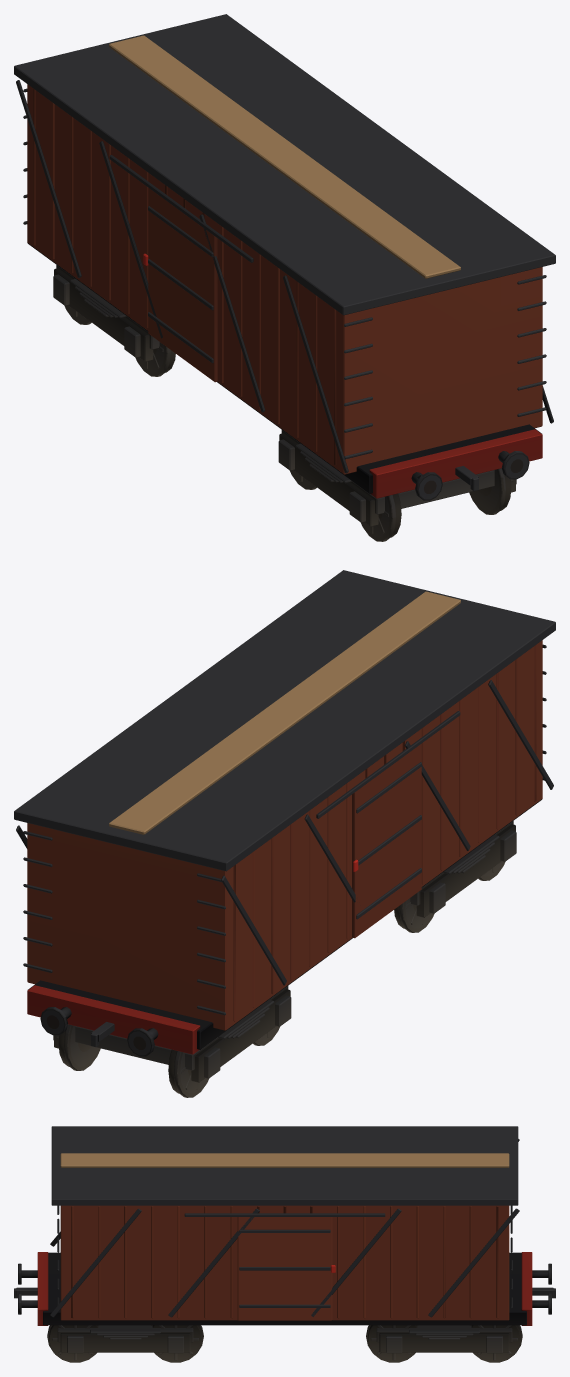
Rendered from tren_yuk.glb.
The picture shows the model from 3 angles, top to bottom: view 1: azimuth 30°, elevation 25°; view 2: azimuth 150°, elevation 25°; view 3: azimuth 270°, elevation 25°; orthographic projection. The views are drawn at different scales.
Visible parts, largest first — view 1: plank-body-001, dark-braces-002, dark-buffers-003, dark-005, dark-010, dark-frame-001, dark-wheel-007, dark-wheel-006, dark-wheel-011; view 2: plank-body-001, dark-braces-002, dark-buffers-004, dark-010, dark-005, dark-frame-001, dark-wheel-014, dark-wheel-013, dark-wheel-008; view 3: plank-body-001, dark-braces-002, dark-frame-001, dark-005, dark-010, dark-buffers-003, dark-buffers-004, dark-wheel-009, dark-wheel-012, dark-wheel-007, dark-wheel-014.
Boxes of the visible parts, <box> form: plank-body-001: <box>14,14,555,474</box>; dark-braces-002: <box>16,35,553,473</box>; dark-buffers-003: <box>369,429,542,500</box>; dark-005: <box>278,430,516,526</box>; dark-010: <box>53,265,159,361</box>; dark-frame-001: <box>27,243,541,493</box>; dark-wheel-007: <box>469,468,511,514</box>; dark-wheel-006: <box>361,493,401,541</box>; dark-wheel-011: <box>135,342,175,376</box>; plank-body-001: <box>14,570,555,1030</box>; dark-braces-002: <box>16,591,553,1015</box>; dark-buffers-004: <box>27,985,200,1056</box>; dark-010: <box>53,986,291,1082</box>; dark-005: <box>410,821,516,917</box>; dark-frame-001: <box>28,799,542,1049</box>; dark-wheel-014: <box>58,1024,100,1070</box>; dark-wheel-013: <box>168,1049,208,1097</box>; dark-wheel-008: <box>394,898,434,932</box>; plank-body-001: <box>51,1126,518,1320</box>; dark-braces-002: <box>50,1139,519,1317</box>; dark-frame-001: <box>43,1252,526,1325</box>; dark-005: <box>57,1325,193,1353</box>; dark-010: <box>376,1325,512,1353</box>; dark-buffers-003: <box>14,1252,48,1325</box>; dark-buffers-004: <box>521,1252,555,1325</box>; dark-wheel-009: <box>151,1325,203,1362</box>; dark-wheel-012: <box>366,1325,418,1362</box>; dark-wheel-007: <box>47,1325,99,1362</box>; dark-wheel-014: <box>470,1325,522,1362</box>.
Bounding box in the file's own units: 2.95 × 3.44 × 9.18.
